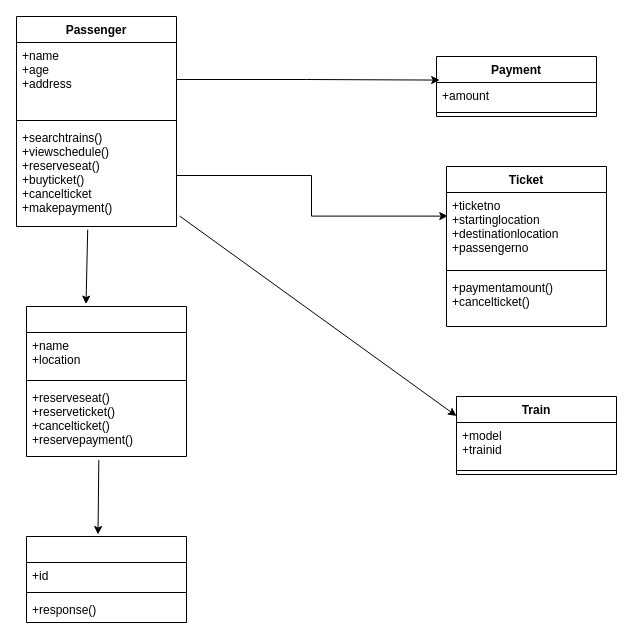
Image size: 633x639. Some labels were removed from this diagram. Here are the shapes that lost their labels. From the top down, the box of each, then its label:
(26, 306, 186, 456): Clerk
(26, 536, 186, 622): Railway
